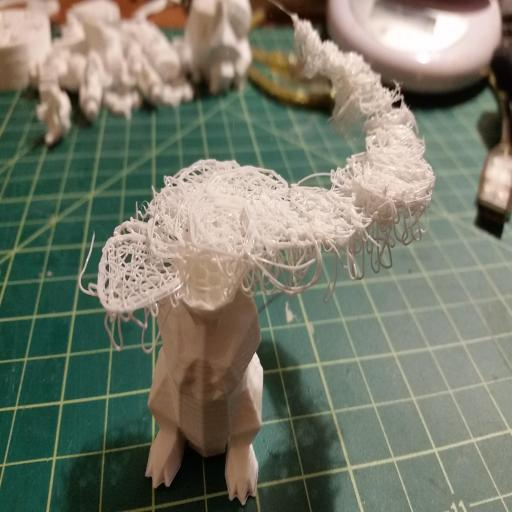spaghetti: (82, 141, 438, 355)
